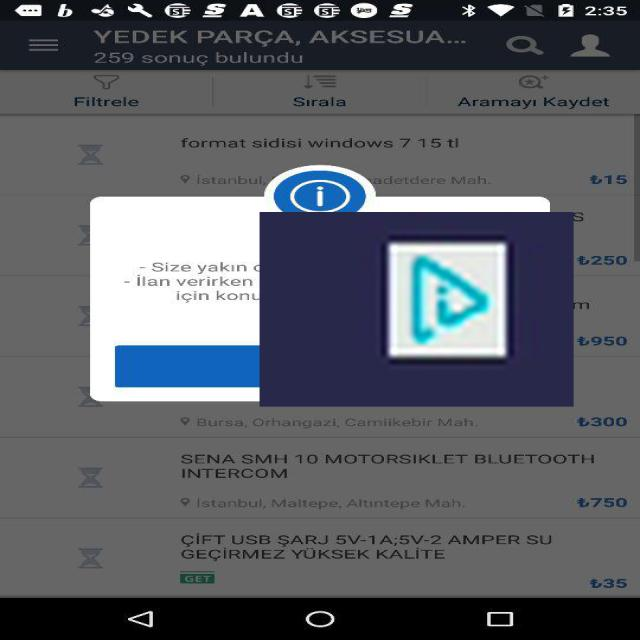sneaking: (260, 212, 574, 407)
